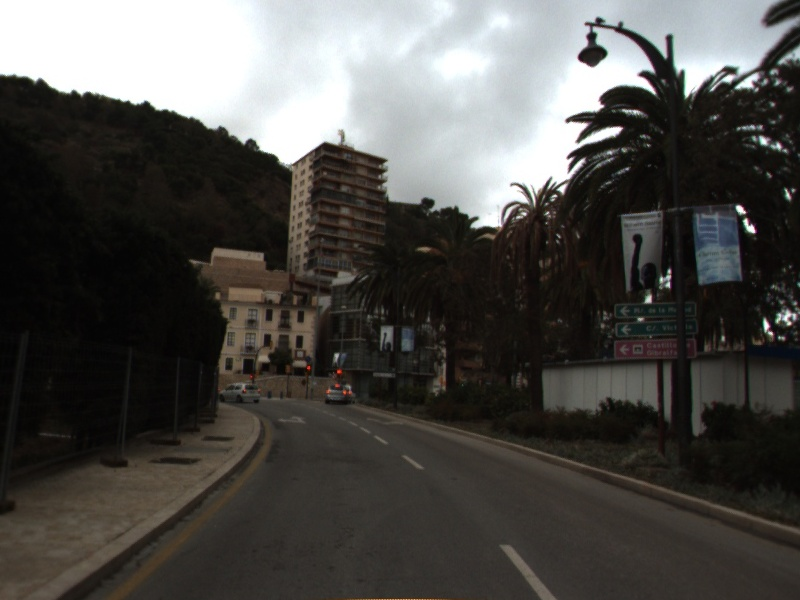STRAIGHT_LEFT: (275, 413, 309, 426)
STRAIGHT_RIGHT: (365, 415, 405, 427)
